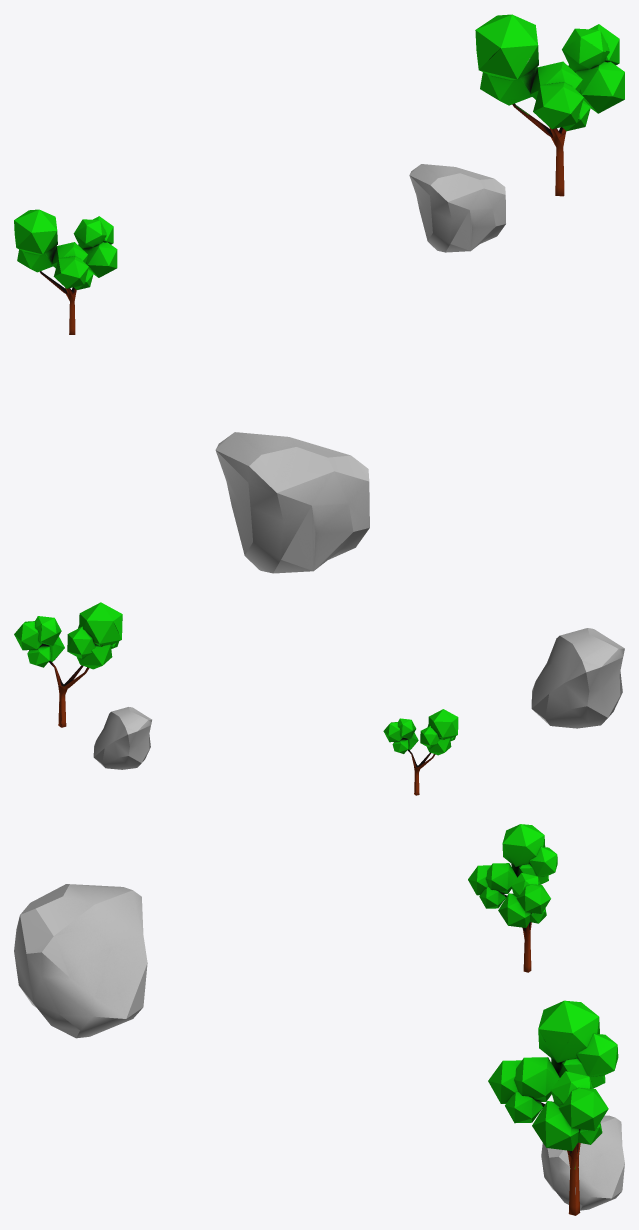
File: Arvore_Pedra_Solto.fbx
3 renders of one model, top to bottom at view 1: azimuth 30°, elevation 25°; view 2: azimuth 150°, elevation 25°; view 3: azimuth 270°, elevation 25°, orthographic. The views are drawn at different scales.
Parts seen in each view (by area): view 1: rock.091_Baked, Arvore_02, rock.090_Baked, Arvore_Baked; view 2: rock.091_Baked, Arvore_02, rock.090_Baked, Arvore_Baked; view 3: rock.091_Baked, Arvore_02, Arvore_Baked, rock.090_Baked.
Part boxes in pixels (x1,y1,x2,y2): rock.091_Baked: [215, 432, 369, 573]; Arvore_02: [475, 14, 624, 196]; rock.090_Baked: [409, 164, 505, 252]; Arvore_Baked: [14, 209, 117, 334]; rock.091_Baked: [531, 628, 624, 728]; Arvore_02: [14, 602, 122, 727]; rock.090_Baked: [93, 707, 151, 769]; Arvore_Baked: [383, 709, 458, 795]; rock.091_Baked: [14, 884, 147, 1038]; Arvore_02: [488, 1000, 618, 1215]; Arvore_Baked: [468, 824, 557, 972]; rock.090_Baked: [541, 1115, 624, 1210].
Bounding box in the file's own units: 1489 × 567 × 1280.
